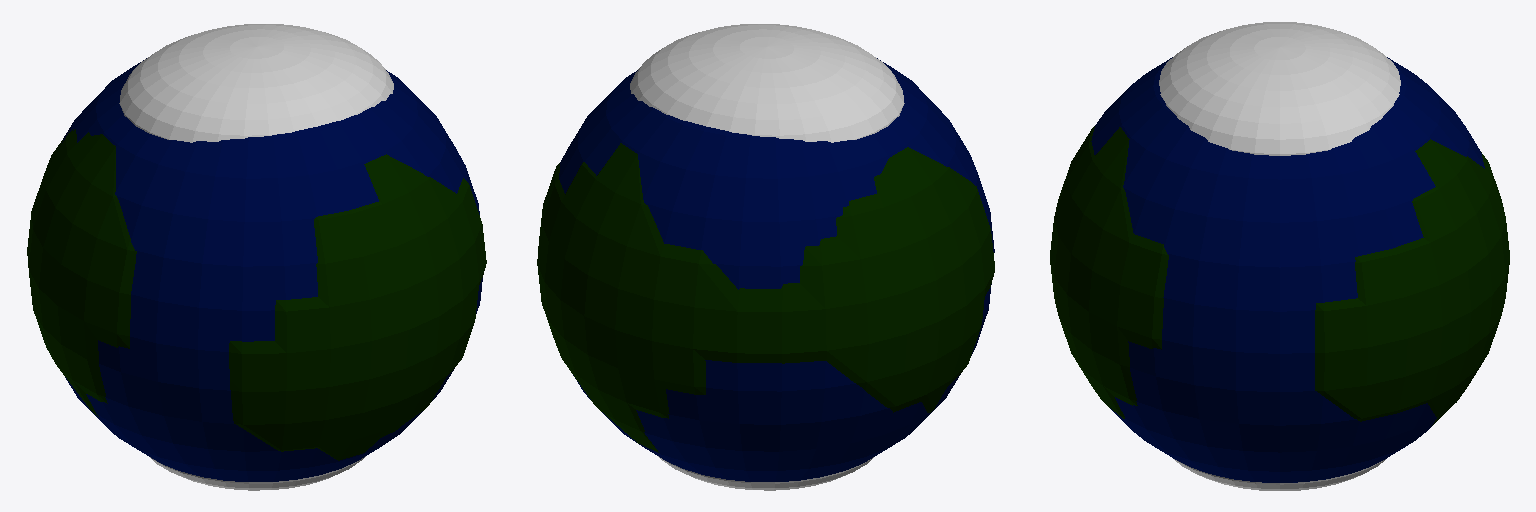
Rendered from planet1.obj.
3 renders of one model, left to right at view 1: azimuth 30°, elevation 25°; view 2: azimuth 150°, elevation 25°; view 3: azimuth 270°, elevation 25°, orthographic.
Visible parts, largest first — view 1: Sphere.002; view 2: Sphere.002; view 3: Sphere.002.
Part boxes in pixels (bbox=[...]): Sphere.002: bbox=[27, 24, 486, 490]; Sphere.002: bbox=[537, 24, 994, 490]; Sphere.002: bbox=[1050, 22, 1509, 490].
Bounding box in the file's own units: 4.06 × 4.09 × 4.08.